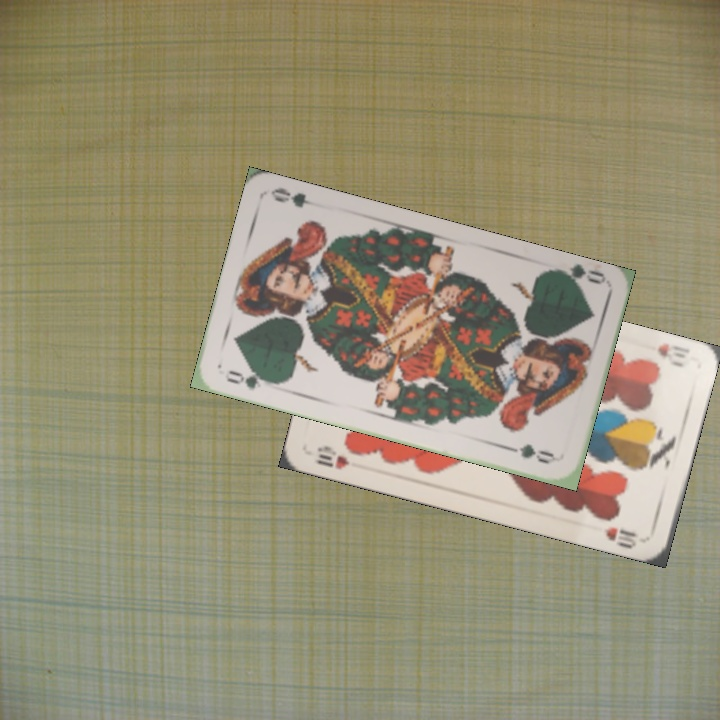GO: (547, 261, 607, 292), (222, 366, 278, 392)
H10: (312, 442, 353, 472), (653, 339, 692, 370)
